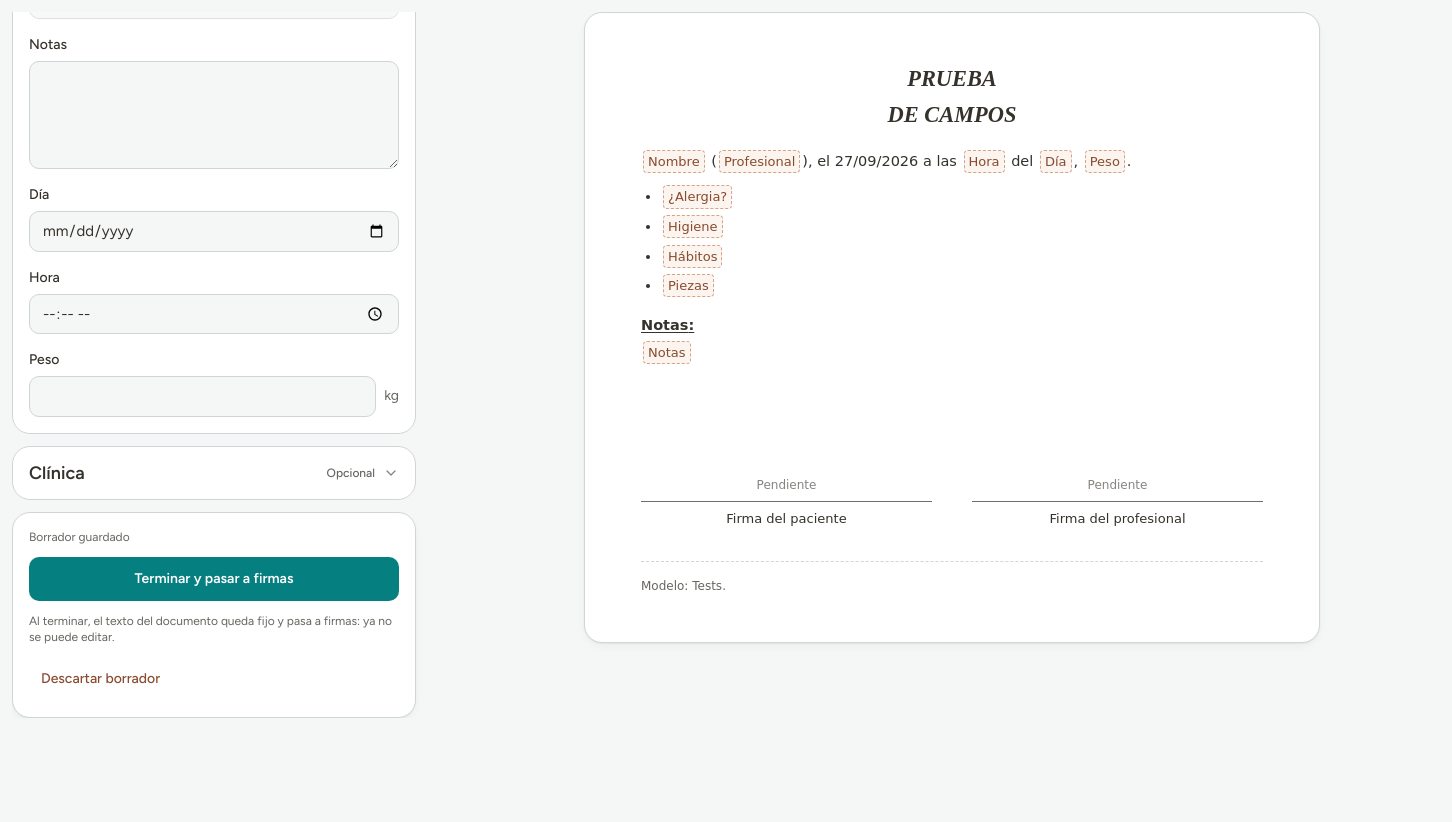
it: EditorDeDocumento › terminar sin los obligatorios lleva al campo y no manda nada
This screenshot has width=1452, height=822.
(page scrolled)
Click the button "Terminar y pasar a firmas": point(214, 578) [29,556,399,600]
(page scrolled)
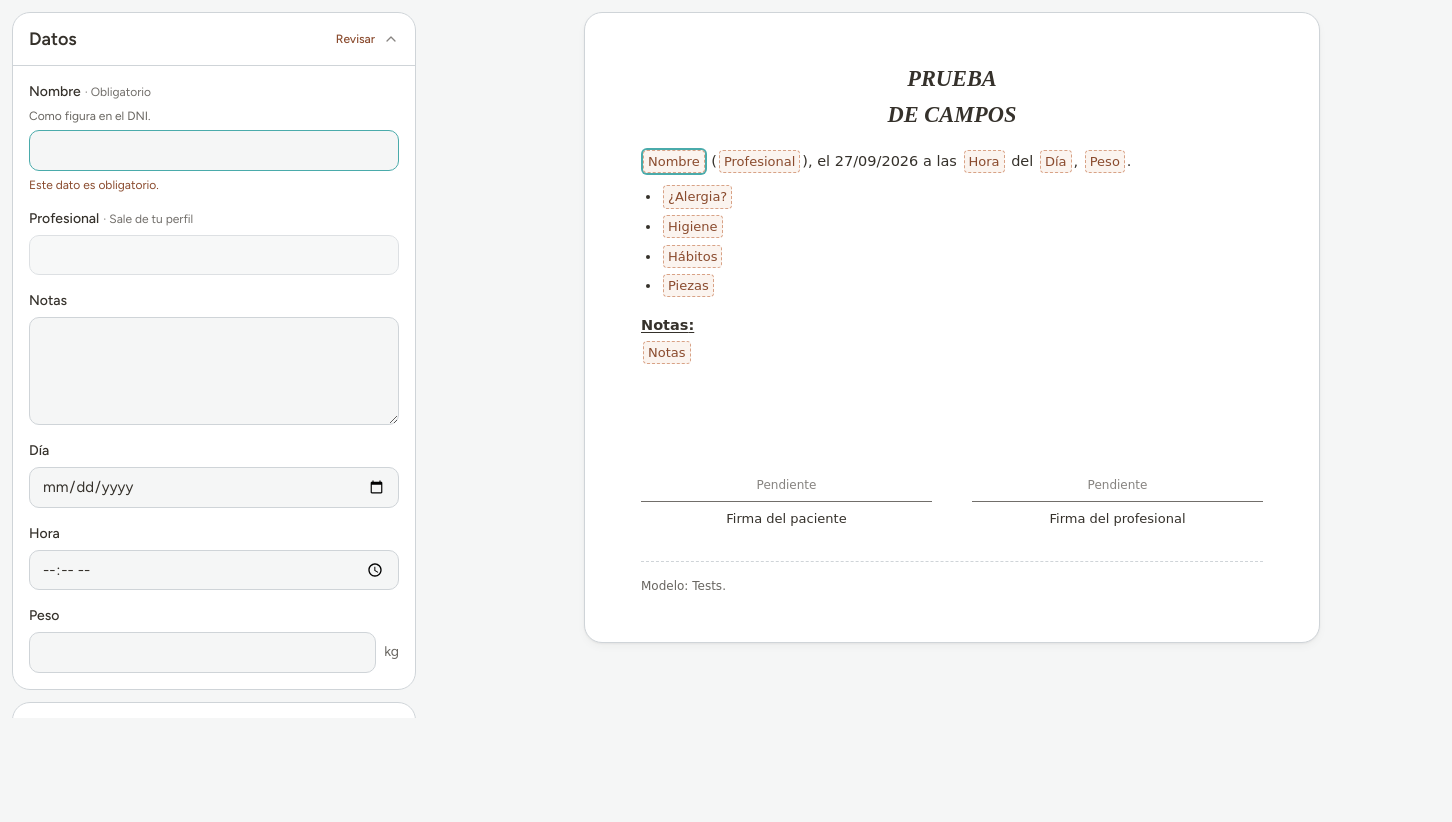
Expected: the text "Este dato es obligatorio." is shown, [29,178,159,192]
